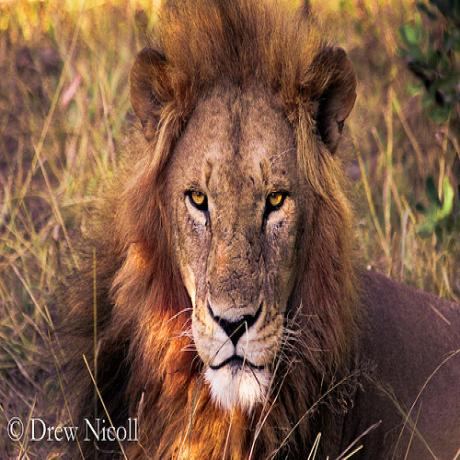Lion: (98, 0, 460, 460)
